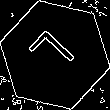L_SE: (26, 27, 84, 83)
